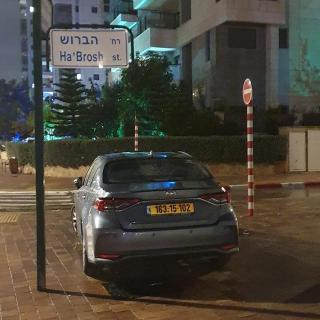LicensePlate: (150, 203, 194, 214)
